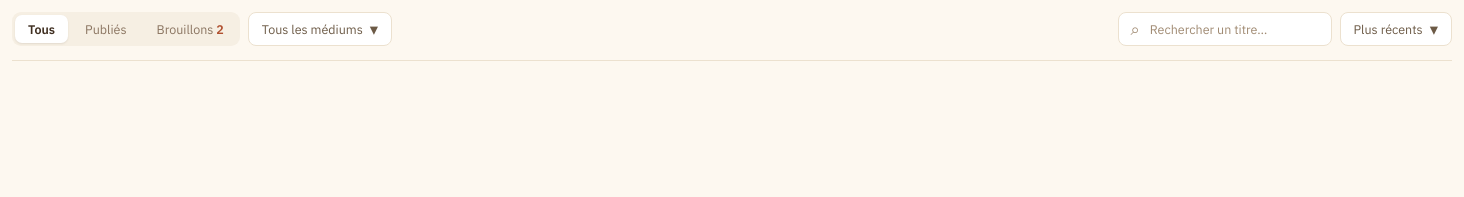
Test: AA-2 ArticlesToolbar › closes an open dropdown on Escape without selecting anything
This screenshot has width=1464, height=197.
Click the button "Plus récents".
click(1396, 29)  # box [1340,12,1452,46]
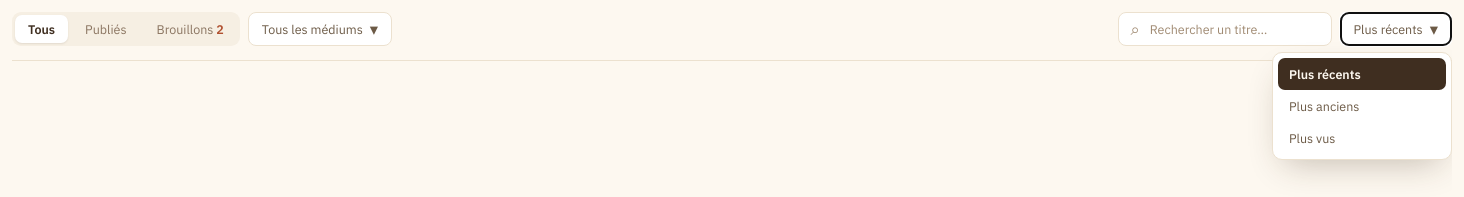
Result: the list named "Tri" is shown at [1272,52,1452,160]
Press Escape
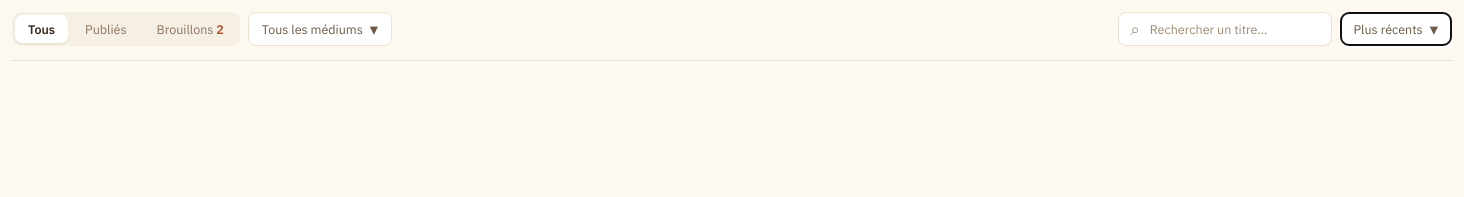
Result: the list is gone
